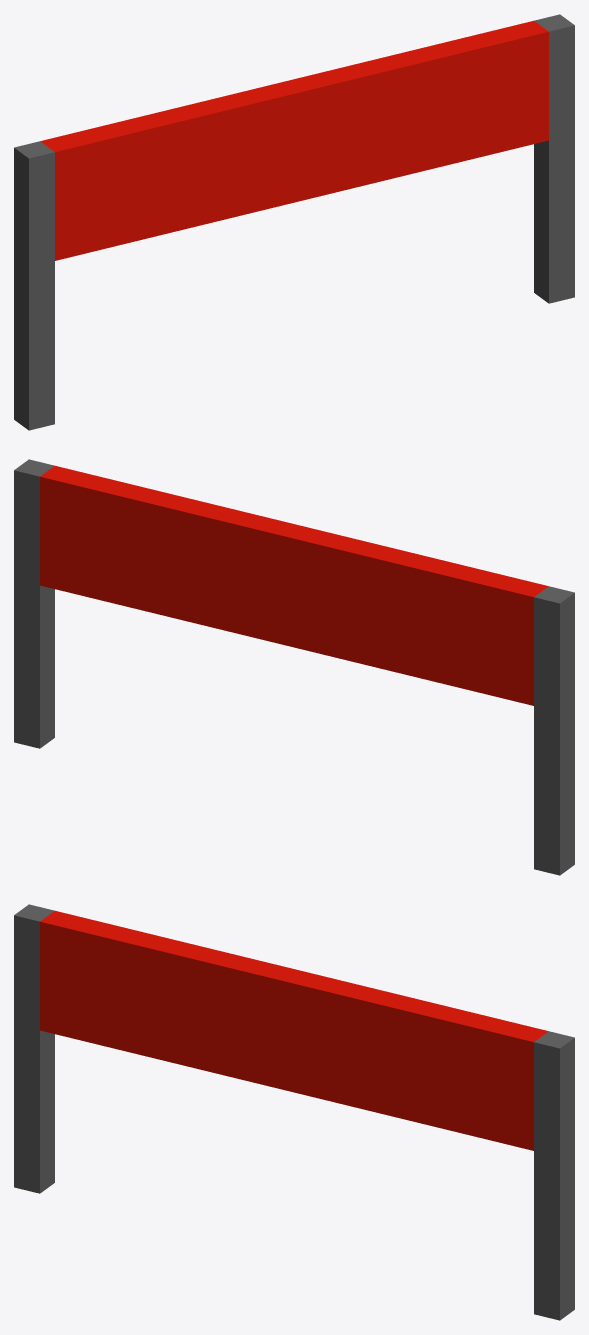
The model's file is flag.fbx.
3 renders of one model, top to bottom at view 1: azimuth 30°, elevation 25°; view 2: azimuth 150°, elevation 25°; view 3: azimuth 330°, elevation 25°, orthographic.
Visible parts, largest first — view 1: change color; view 2: change color; view 3: change color.
Part boxes in pixels (box(x1,y1,x2,y2)): change color: box(14, 14, 574, 430); change color: box(14, 459, 574, 875); change color: box(14, 904, 574, 1320).
Bounding box in the file's own units: 2100 × 1000 × 100.
